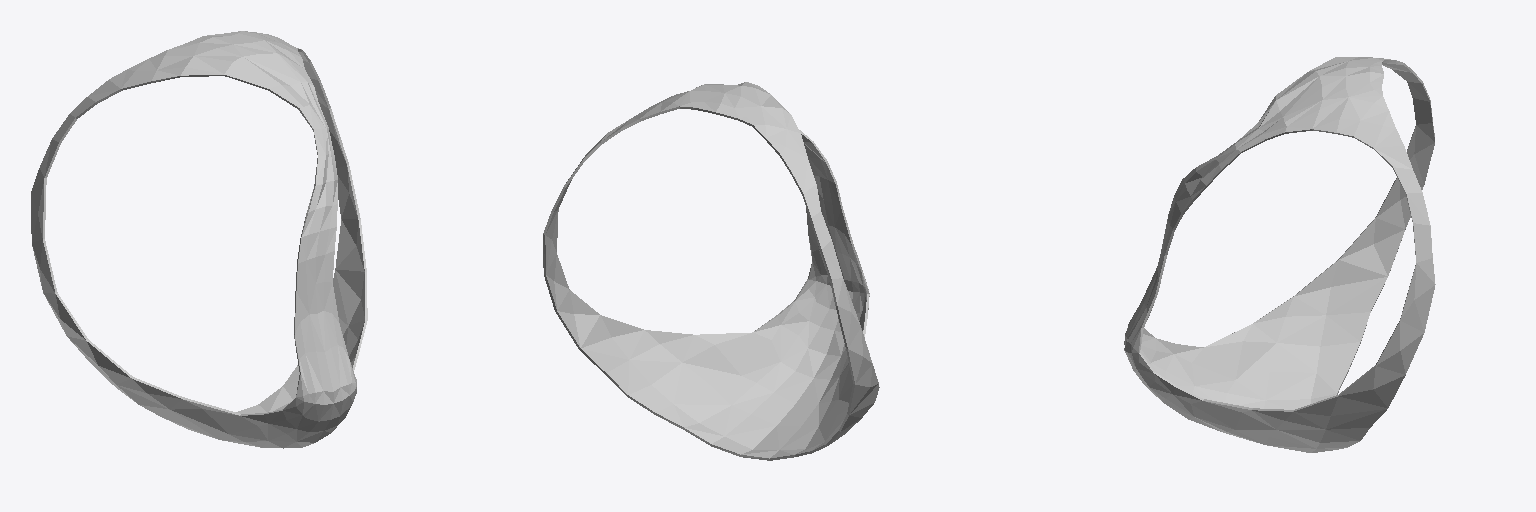
File: PantieMask.obj
3 views of the same model, side by side, from view 1: azimuth 30°, elevation 25°; view 2: azimuth 150°, elevation 25°; view 3: azimuth 270°, elevation 25° (orthographic).
Visible parts, largest first — view 1: panties_female.004_panties_reference.007; view 2: panties_female.004_panties_reference.007; view 3: panties_female.004_panties_reference.007.
Part boxes in pixels (x1,y1,x2,y2): panties_female.004_panties_reference.007: (31,31,367,448); panties_female.004_panties_reference.007: (543,82,879,460); panties_female.004_panties_reference.007: (1124,57,1435,452).
Bounding box in the file's own units: 37.93 × 43.11 × 32.83.